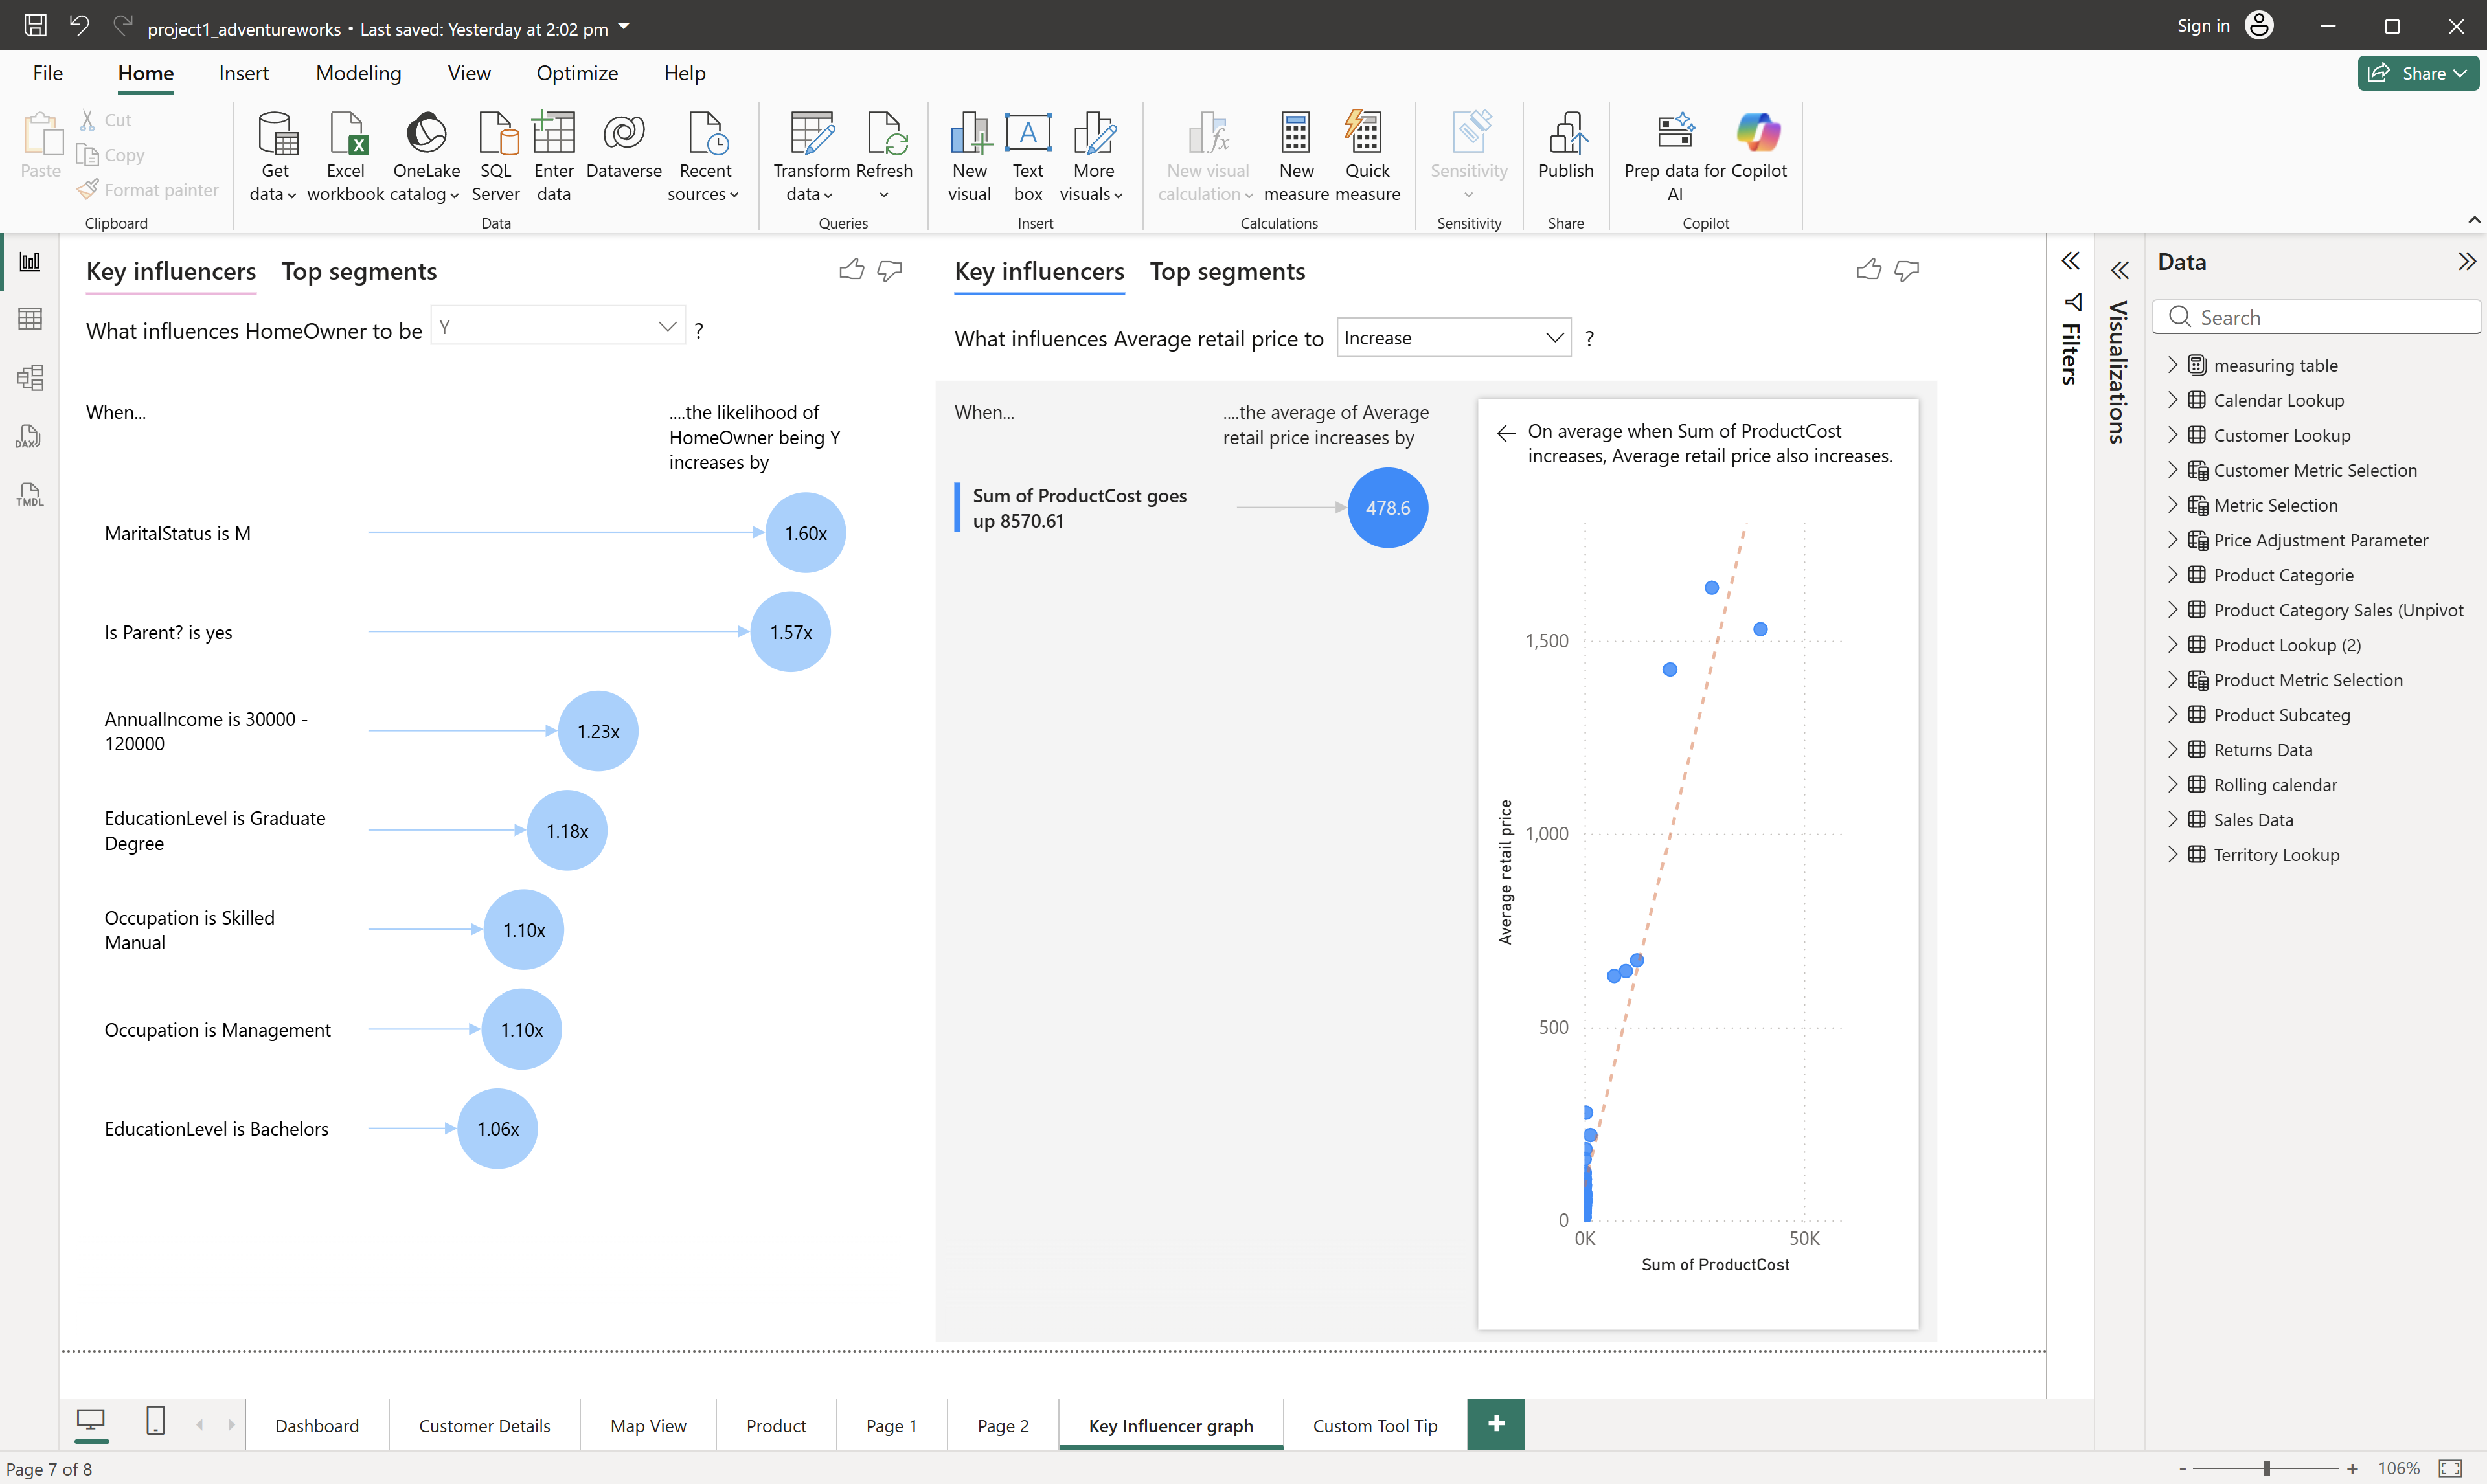

The dashboard page shown, as its layout file describes it:
{"tool":"powerbi","page":{"name":"Key Influencer graph","canvas":[1280,720],"ordinal":6},"visuals":[{"type":"keyDriversVisual","fields":{"Target":["Customer Lookup.HomeOwner"],"ExplainBy":["Customer Lookup.AnnualIncome","Customer Lookup.EducationLevel","Customer Lookup.Is Parent?","Customer Lookup.MaritalStatus","Customer Lookup.Occupation"]},"box":[0,0,560,720],"z":0},{"type":"keyDriversVisual","fields":{"Target":["measuring table.Average retail price"],"ExplainBy":["Sum(Product Lookup (2).ProductCost)"],"Details":["Product Subcateg.SubcategoryName"]},"box":[559.8,0,655.4,719.6],"z":1000}]}

Visuals, with their boxes on the page's 1280x720 design canvas (x1, y1, x2, y2). These are canvas units, not pixel positions in the 2487x1484 screenshot, which may show the page scaled, cropped or inside an application window:
keyDriversVisual - Customer Lookup.HomeOwner x Customer Lookup.AnnualIncome: 0/0/560/720
keyDriversVisual - measuring table.Average retail price x Sum(Product Lookup (2).ProductCost): 560/0/1215/720
